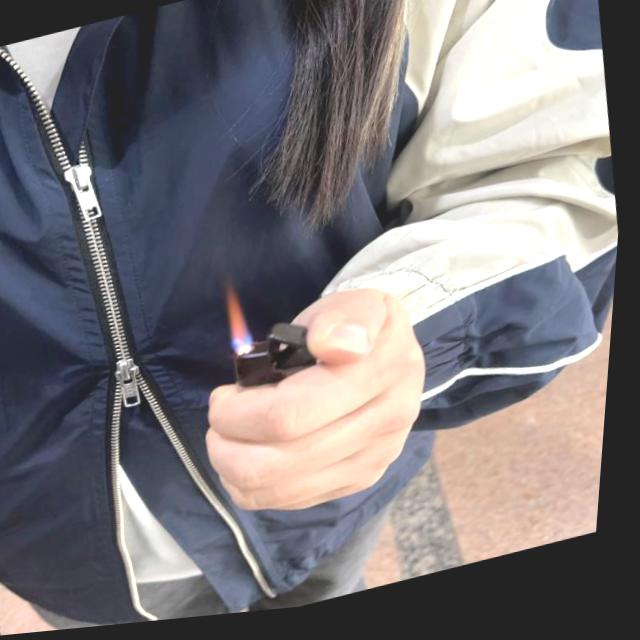helmet: (221, 279, 263, 365)
